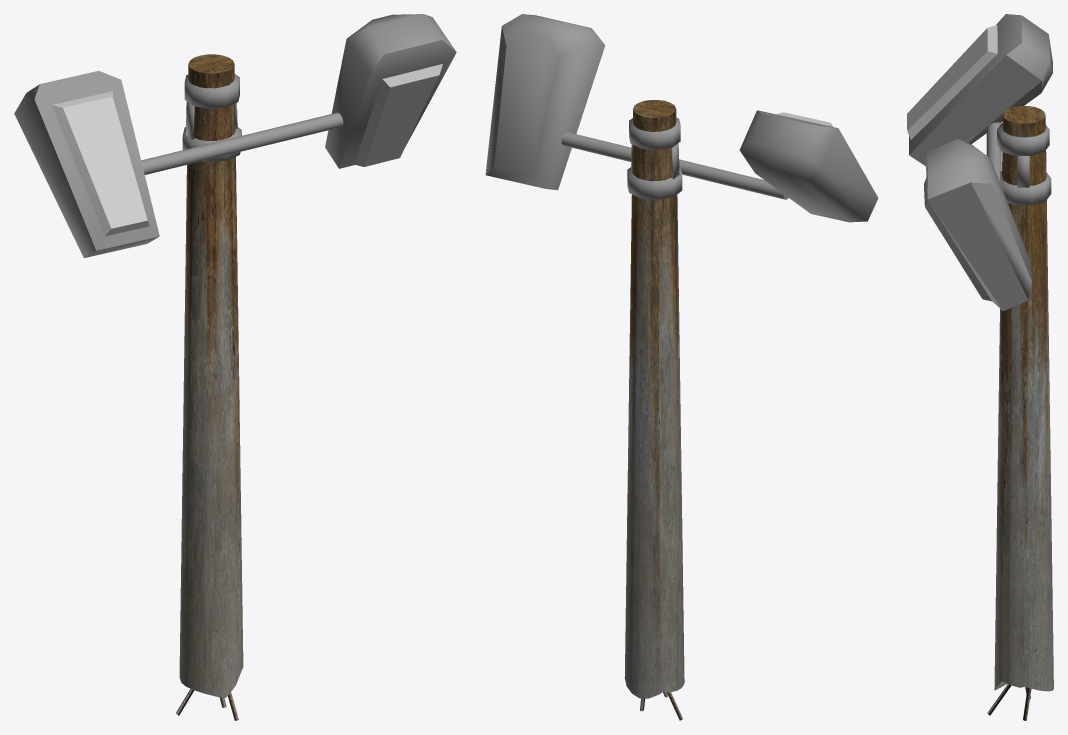
The model's file is RoadLamp3_3b.FBX.
3 renders of one model, left to right at view 1: azimuth 30°, elevation 25°; view 2: azimuth 150°, elevation 25°; view 3: azimuth 270°, elevation 25°, orthographic. The views are drawn at different scales.
Visible parts, largest first — view 1: LampLight, LampPillar; view 2: LampLight, LampPillar; view 3: LampLight, LampPillar, Debris.
Boxes of the visible parts, box(x1,y1,x2,y2) form: LampLight: box(14, 14, 456, 257); LampPillar: box(179, 54, 243, 697); LampLight: box(485, 14, 878, 222); LampPillar: box(624, 100, 684, 699); LampLight: box(907, 14, 1052, 311); LampPillar: box(994, 106, 1053, 691); Debris: box(987, 684, 1031, 720).
Bounding box in the file's own units: 33.35 × 56.91 × 12.03.
